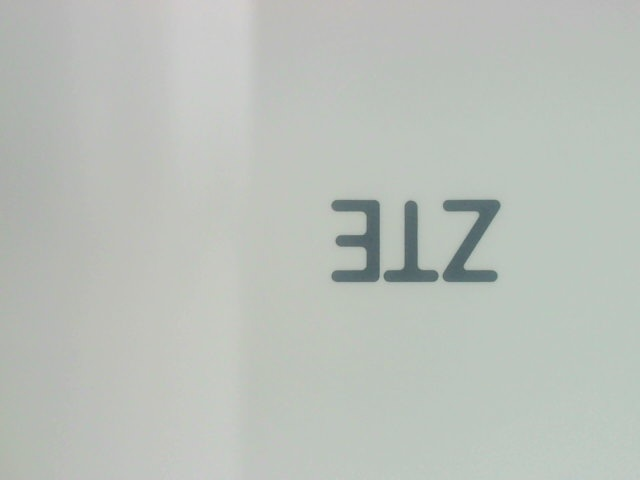AN_ZTE: (328, 190, 503, 291)
